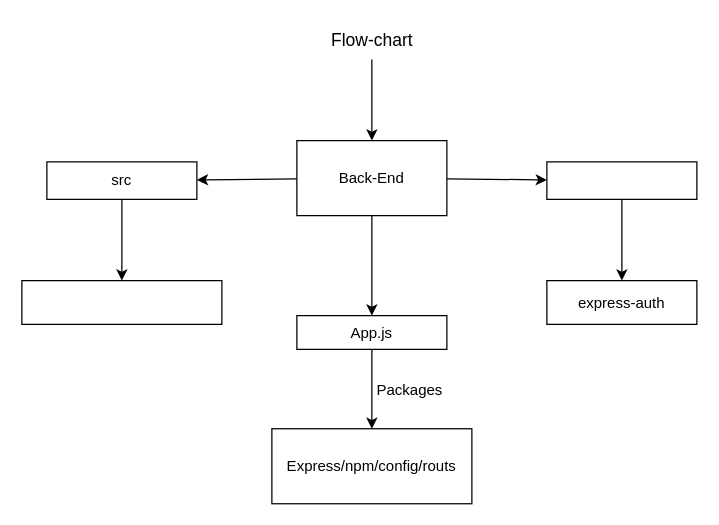
This 719x525 diagram has some shape labels left out. The centre of each missing label's shape, as x and y in pixels:
auth: [621,180]
schema/model/mongoDB: [121,301]
